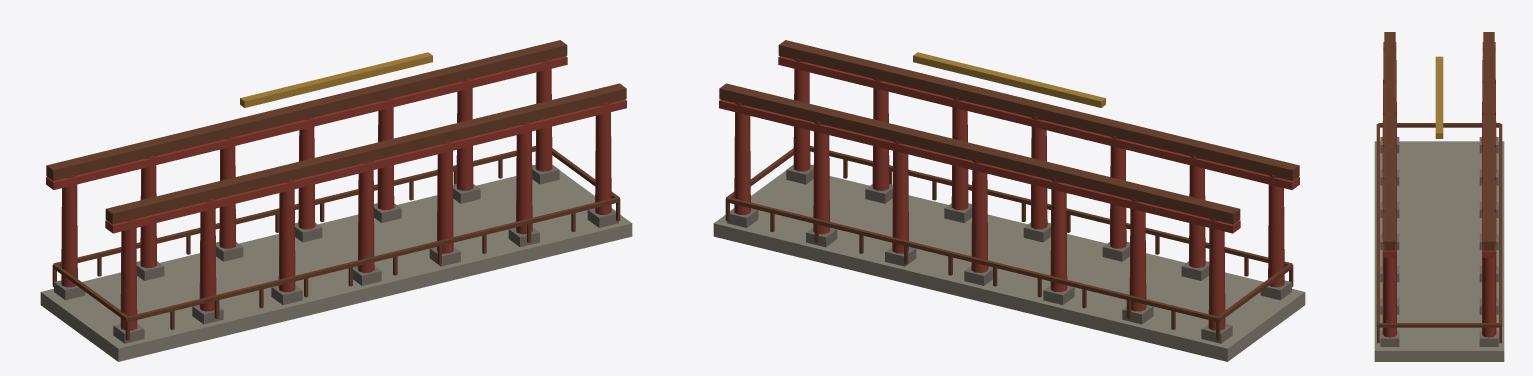
The model's file is tang-corridor.glb.
The picture shows the model from 3 angles, left to right: view 1: azimuth 30°, elevation 25°; view 2: azimuth 150°, elevation 25°; view 3: azimuth 270°, elevation 25°; orthographic projection. The views are drawn at different scales.
Parts seen in each view (by area): view 1: tang-corridor; view 2: tang-corridor; view 3: tang-corridor.
Part boxes in pixels (x1=…): tang-corridor: x1=40, y1=40, x2=632, y2=361; tang-corridor: x1=713, y1=40, x2=1305, y2=361; tang-corridor: x1=1374, y1=32, x2=1504, y2=361.
Size of the model in its own units: 14.56 by 4.69 by 4.16.
